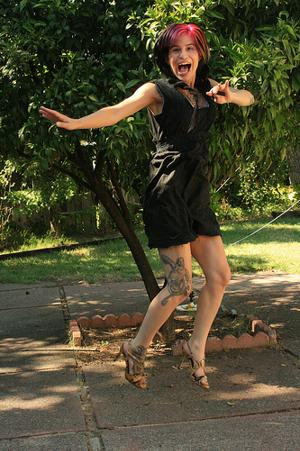person: (41, 21, 258, 391)
